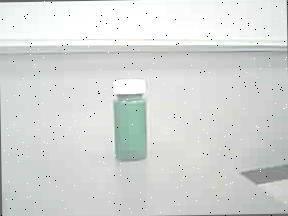Bottle C: (102, 70, 162, 170)
